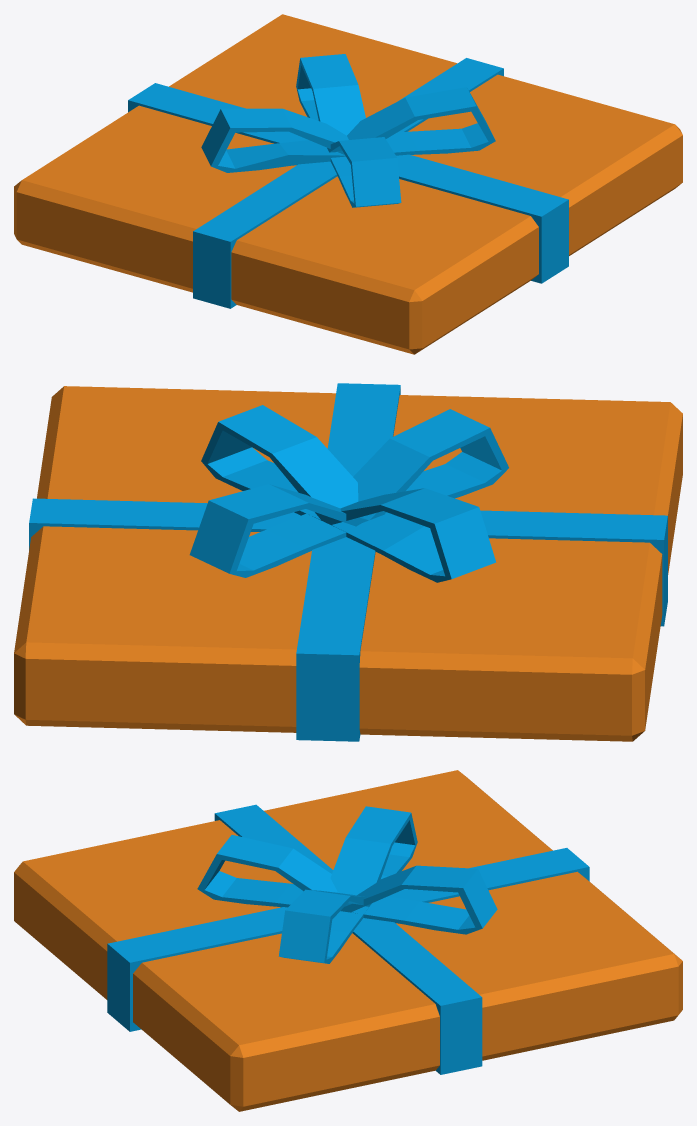
File: gift4.fbx
3 renders of one model, top to bottom at view 1: azimuth 30°, elevation 25°; view 2: azimuth 150°, elevation 25°; view 3: azimuth 270°, elevation 25°, orthographic. The views are drawn at different scales.
Parts seen in each view (by area): view 1: OrangeGift; view 2: OrangeGift; view 3: OrangeGift.
Boxes of the visible parts, bbox=[...] form: OrangeGift: bbox=[14, 14, 682, 354]; OrangeGift: bbox=[14, 383, 682, 741]; OrangeGift: bbox=[14, 770, 682, 1111].
Bounding box in the file's own units: 84.87 × 15.81 × 84.87.
